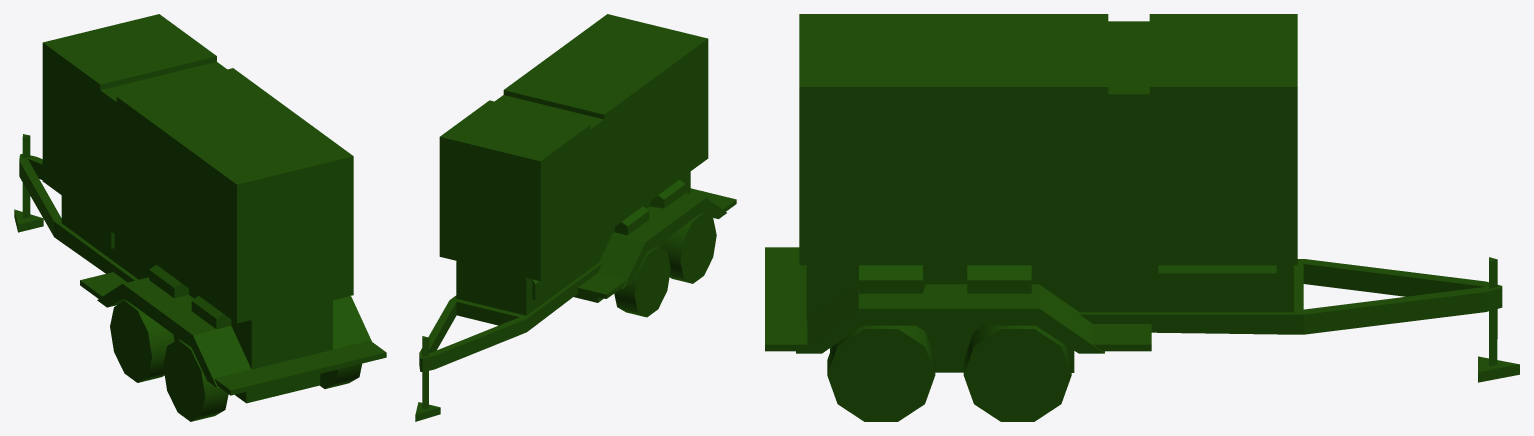
File: GeneratorA.fbx
3 views of the same model, side by side, from view 1: azimuth 30°, elevation 25°; view 2: azimuth 150°, elevation 25°; view 3: azimuth 270°, elevation 25° (orthographic). The views are drawn at different scales.
Visible parts, largest first — view 1: GeneratorA; view 2: GeneratorA; view 3: GeneratorA.
Boxes of the visible parts, left/top/right/bottom form: GeneratorA: left=14, top=14, right=386, bottom=421; GeneratorA: left=415, top=14, right=736, bottom=421; GeneratorA: left=765, top=14, right=1519, bottom=421.
Bounding box in the file's own units: 1.74 × 2.65 × 5.59.
